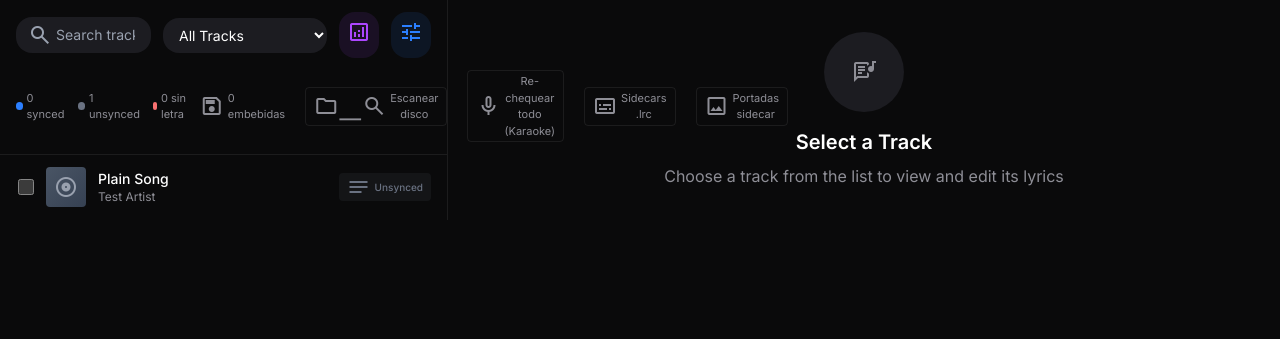
Test: LyricsView (fully wired tab) › shows unsynced paragraphs for plain-format lyrics
Click the element with class "cursor-pointer" at (66, 187), box [0, 155, 447, 219]
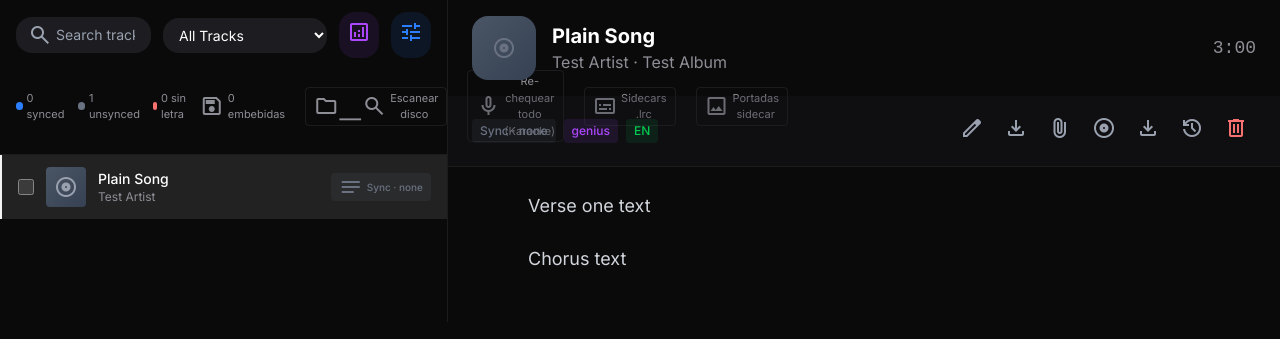
Expected: the text "unsynced" is shown, [89, 90, 140, 121]
Now the text "Chorus text" is shown, box [528, 248, 626, 269]
